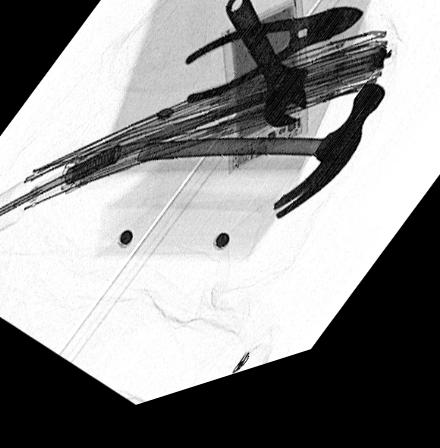Hammer: (138, 105, 387, 236)
Pliers: (183, 27, 365, 114)
Powerbank: (220, 12, 308, 188)
Wrench: (225, 6, 309, 146)
